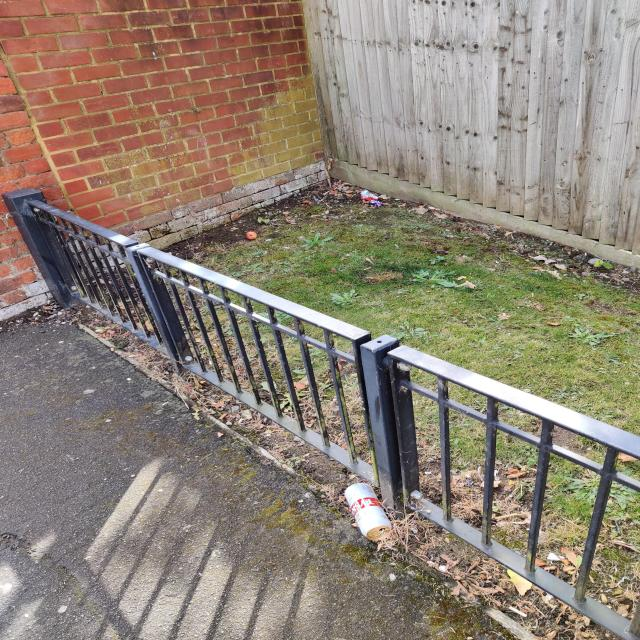litter: (344, 484, 392, 540), (360, 190, 381, 200), (509, 607, 527, 617), (247, 232, 255, 240)
